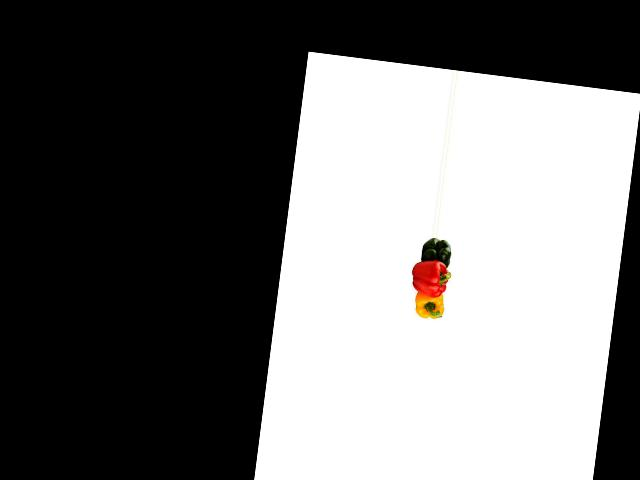bell_pepper: (407, 288, 449, 322)
